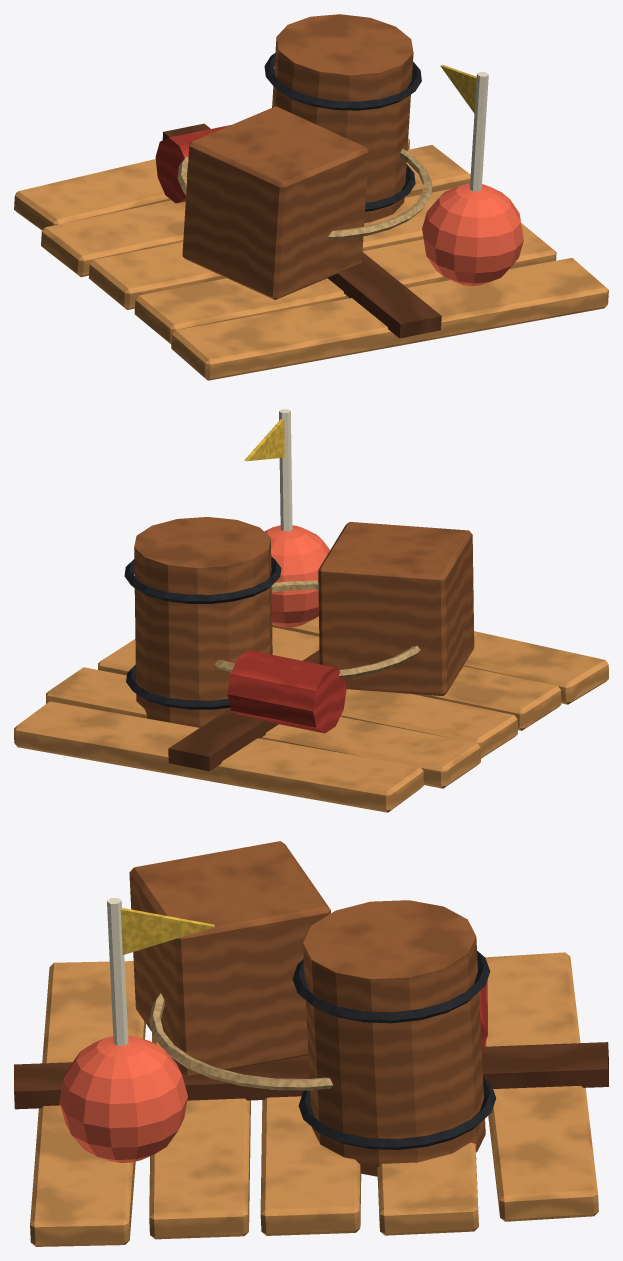
File: floating_salvage.fbx
The picture shows the model from 3 angles, top to bottom: view 1: azimuth 30°, elevation 25°; view 2: azimuth 150°, elevation 25°; view 3: azimuth 270°, elevation 25°; orthographic projection. The views are drawn at different scales.
Parts seen in each view (by area): view 1: floating_salvage_mesh; view 2: floating_salvage_mesh; view 3: floating_salvage_mesh.
Boxes of the visible parts, box(x1,y1,x2,y2) form: floating_salvage_mesh: box(14, 14, 608, 380); floating_salvage_mesh: box(14, 409, 608, 812); floating_salvage_mesh: box(14, 841, 608, 1246).
Size of the model in its own units: 232 by 130 by 240.
Materials: 1 (1 with a texture image).
